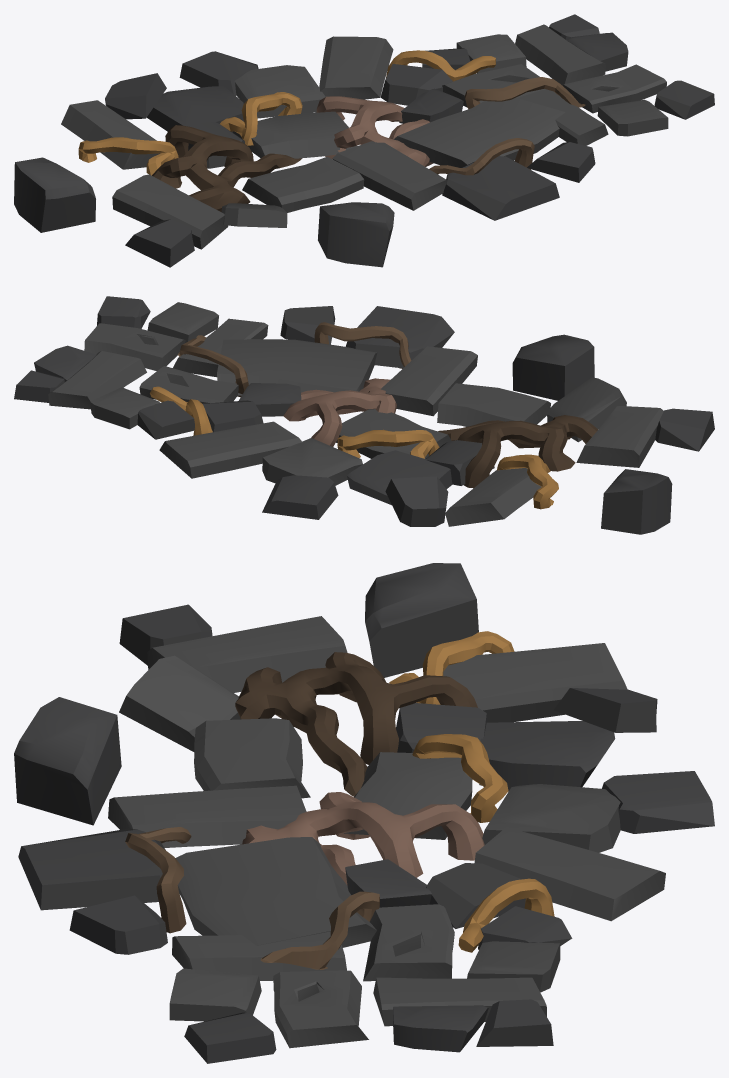
Rendered from ea01_env_road_cobble_01b_pre_7_lev1.glb.
The picture shows the model from 3 angles, top to bottom: view 1: azimuth 30°, elevation 25°; view 2: azimuth 150°, elevation 25°; view 3: azimuth 270°, elevation 25°; orthographic projection. The views are drawn at different scales.
Visible parts, largest first — view 1: ea01_env_road_cobble_01b_pre_7_lev1; view 2: ea01_env_road_cobble_01b_pre_7_lev1; view 3: ea01_env_road_cobble_01b_pre_7_lev1.
Boxes of the visible parts, box(x1,y1,x2,y2) form: ea01_env_road_cobble_01b_pre_7_lev1: box(14, 14, 714, 267); ea01_env_road_cobble_01b_pre_7_lev1: box(14, 296, 714, 534); ea01_env_road_cobble_01b_pre_7_lev1: box(14, 563, 714, 1063).
Bounding box in the file's own units: 5.68 × 0.5024 × 3.7.
1 material, 1 textured.
